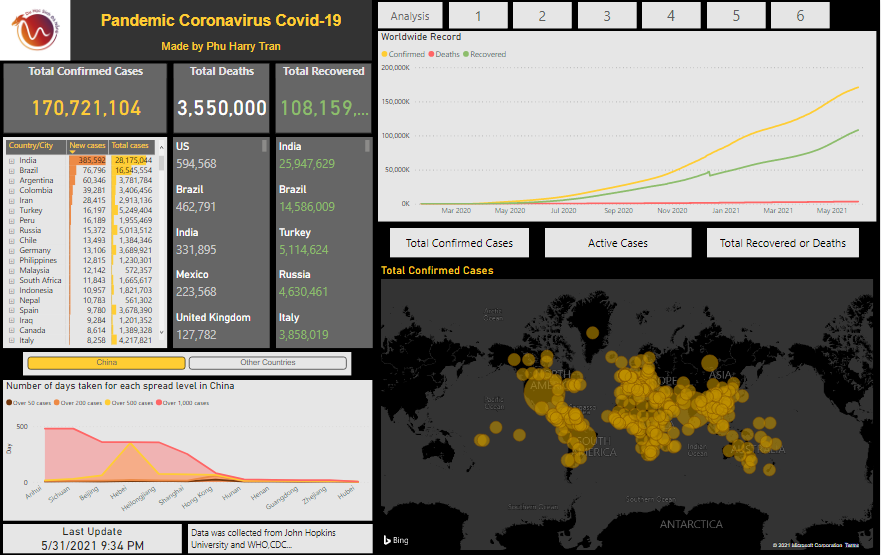

What the dashboard file says about the page in this screenshot:
{"tool":"powerbi","page":{"name":"Coronavirus","canvas":[1500,950],"ordinal":0},"visuals":[{"type":"multiRowCard","fields":{"Values":["Master Table.Recovered cases today","Master Table.City"]},"box":[470,235,165,360],"z":1000},{"type":"pivotTable","fields":{"Rows":["Master Table.Country/Region","Master Table.Province/State"],"Values":["Master Table.New cases all","Master Table.Confirmed cases today"]},"box":[5,235,280,360],"z":2000},{"type":"multiRowCard","fields":{"Values":["Master Table.Deaths cases today","Master Table.City"]},"box":[294.5,235,165,360],"z":3000},{"type":"textbox","box":[119.6,0,515,105],"z":4000},{"type":"PBI_CV_7B952816_A48F_49B4_9E13_15E3BB2C0337","title":"Total Confirmed Cases","fields":{"Values":["Master Table.Confirmed cases today"]},"box":[5,110,280,120.2],"z":5000},{"type":"PBI_CV_7B952816_A48F_49B4_9E13_15E3BB2C0337","title":"Total Recovered","fields":{"Values":["Master Table.Recovered cases today"]},"box":[469.7,110,165,119.6],"z":6000},{"type":"PBI_CV_7B952816_A48F_49B4_9E13_15E3BB2C0337","title":"Total Deaths","fields":{"Values":["Master Table.Deaths cases today"]},"box":[295,110,165,120.2],"z":7000},{"type":"actionButton","title":"Phân tích:","box":[645,5,110,44.7],"z":8000},{"type":"image","title":"Logo","box":[0,0,119.6,105],"z":9000},{"type":"actionButton","title":"1","box":[765,5,100,45],"z":10000},{"type":"actionButton","title":"2","box":[875,5,100,44.7],"z":11000},{"type":"actionButton","title":"3","box":[985,5,100,44.7],"z":12000},{"type":"actionButton","title":"4","box":[1095,5,100,44.7],"z":13000},{"type":"actionButton","title":"5","box":[1205,5,100,44.7],"z":14000},{"type":"actionButton","title":"6","box":[1315,5,100,44.7],"z":15000},{"type":"card","title":"Last Update","fields":{"Values":["Refresh Time.Last Refresh"]},"box":[5,895,305,50],"z":16000},{"type":"textbox","title":"Source Box","box":[320,895,315,50],"z":17000},{"type":"ChicletSlicer1448559807354","title":"Slicer Check china","fields":{"Category":["Master Table.Classification"]},"box":[40,602,560,40],"z":18000},{"type":"map","title":"Total Confirmed Cases","fields":{"Size":["Master Table.Confirmed cases today"],"Category":["Master Table.Place"]},"box":[645,450,850,495],"z":18500},{"type":"areaChart","fields":{"Category":["Master Table.City"],"Y":["Master Table.past 50","Master Table.past 200","Master Table.past 500","Master Table.past 2000"]},"box":[5,650,630,240],"z":20000},{"type":"actionButton","title":"Map box 3","box":[1205,390,258.9,50],"z":21000},{"type":"actionButton","title":"Map box 2","box":[930,390,250,50],"z":22000},{"type":"actionButton","title":"Map box 1","box":[665,390,236.8,50],"z":23000},{"type":"lineChart","title":"Worldwide Record","fields":{"Category":["Master Table.Date.Variation.Date Hierarchy.Year"],"Y":["Master Table.Total value"],"Series":["Master Table.Category"]},"box":[645,55,850,325],"z":23500}]}

Visuals, with their boxes in screenshot pixels (x1, y1, x2, y2), scaled from the page's 1500x950 canvas onto the 881x555 screenshot:
multiRowCard - Master Table.Recovered cases today x Master Table.City: {"left": 276, "top": 137, "right": 373, "bottom": 348}
pivotTable - Master Table.Country/Region x Master Table.Province/State: {"left": 3, "top": 137, "right": 167, "bottom": 348}
multiRowCard - Master Table.Deaths cases today x Master Table.City: {"left": 173, "top": 137, "right": 270, "bottom": 348}
textbox: {"left": 70, "top": 0, "right": 373, "bottom": 61}
"Total Confirmed Cases" PBI_CV_7B952816_A48F_49B4_9E13_15E3BB2C0337: {"left": 3, "top": 64, "right": 167, "bottom": 134}
"Total Recovered" PBI_CV_7B952816_A48F_49B4_9E13_15E3BB2C0337: {"left": 276, "top": 64, "right": 373, "bottom": 134}
"Total Deaths" PBI_CV_7B952816_A48F_49B4_9E13_15E3BB2C0337: {"left": 173, "top": 64, "right": 270, "bottom": 134}
"Phân tích:" actionButton: {"left": 379, "top": 3, "right": 443, "bottom": 29}
"Logo" image: {"left": 0, "top": 0, "right": 70, "bottom": 61}
"1" actionButton: {"left": 449, "top": 3, "right": 508, "bottom": 29}
"2" actionButton: {"left": 514, "top": 3, "right": 573, "bottom": 29}
"3" actionButton: {"left": 579, "top": 3, "right": 637, "bottom": 29}
"4" actionButton: {"left": 643, "top": 3, "right": 702, "bottom": 29}
"5" actionButton: {"left": 708, "top": 3, "right": 766, "bottom": 29}
"6" actionButton: {"left": 772, "top": 3, "right": 831, "bottom": 29}
"Last Update" card: {"left": 3, "top": 523, "right": 182, "bottom": 552}
"Source Box" textbox: {"left": 188, "top": 523, "right": 373, "bottom": 552}
"Slicer Check china" ChicletSlicer1448559807354: {"left": 23, "top": 352, "right": 352, "bottom": 375}
"Total Confirmed Cases" map: {"left": 379, "top": 263, "right": 878, "bottom": 552}
areaChart - Master Table.City x Master Table.past 50: {"left": 3, "top": 380, "right": 373, "bottom": 520}
"Map box 3" actionButton: {"left": 708, "top": 228, "right": 860, "bottom": 257}
"Map box 2" actionButton: {"left": 546, "top": 228, "right": 693, "bottom": 257}
"Map box 1" actionButton: {"left": 391, "top": 228, "right": 530, "bottom": 257}
"Worldwide Record" lineChart: {"left": 379, "top": 32, "right": 878, "bottom": 222}
